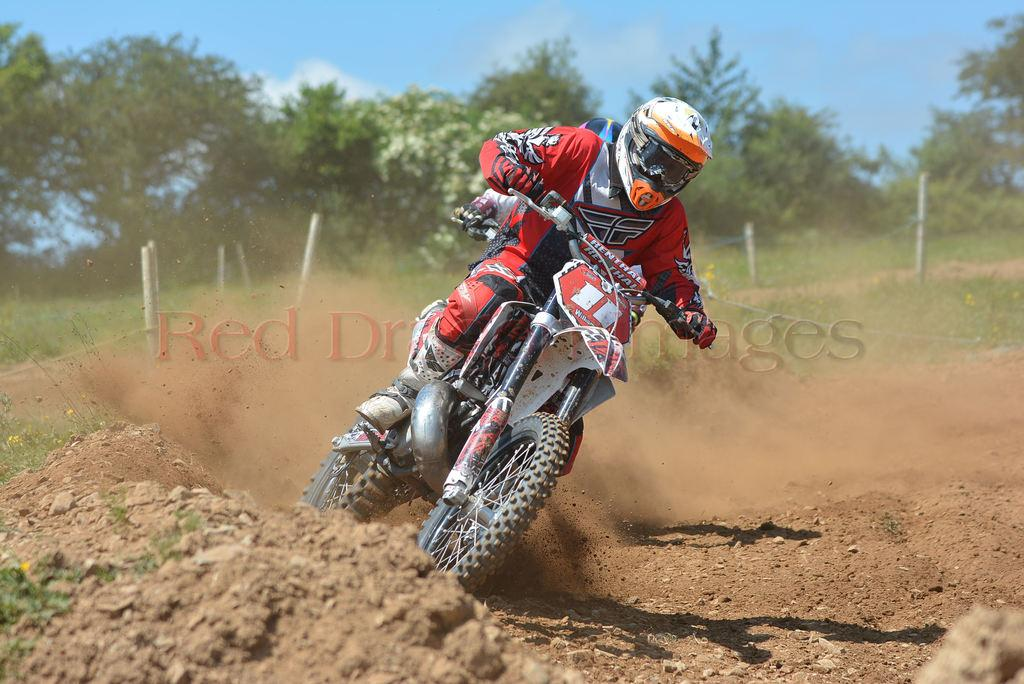helmet: (615, 96, 713, 212)
